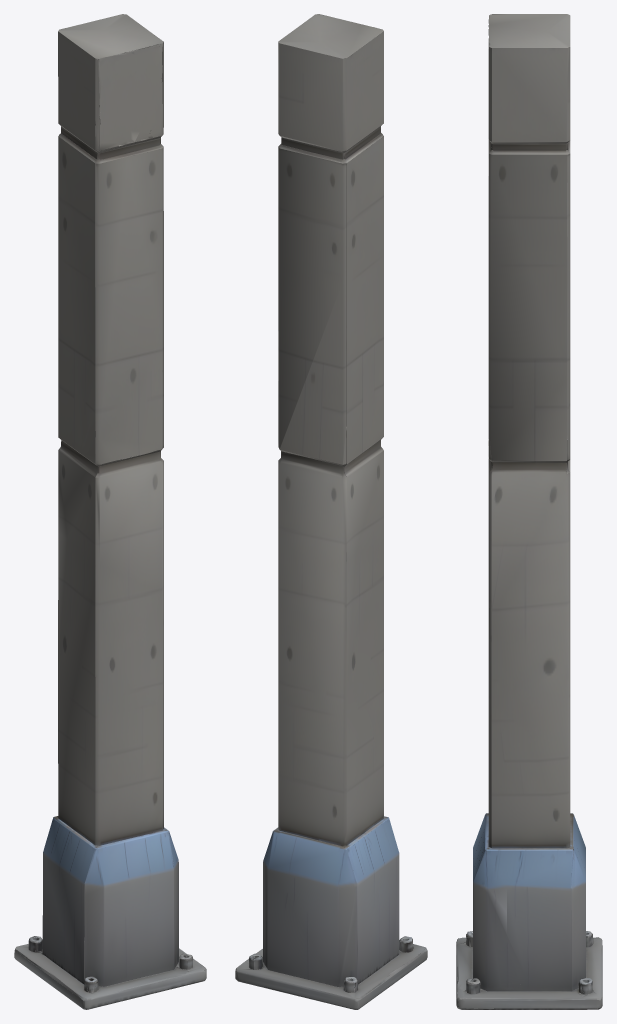
File: pillar.glb
3 views of the same model, side by side, from view 1: azimuth 30°, elevation 25°; view 2: azimuth 150°, elevation 25°; view 3: azimuth 270°, elevation 25° (orthographic).
Visible parts, largest first — view 1: Industrial_pillar; view 2: Industrial_pillar; view 3: Industrial_pillar.
Boxes of the visible parts, <box> form: Industrial_pillar: <box>14,14,206,1009</box>; Industrial_pillar: <box>235,14,427,1009</box>; Industrial_pillar: <box>456,14,602,1009</box>.
Size of the model in its own units: 0.4196 by 3 by 0.4197.
1 material, 1 textured.
